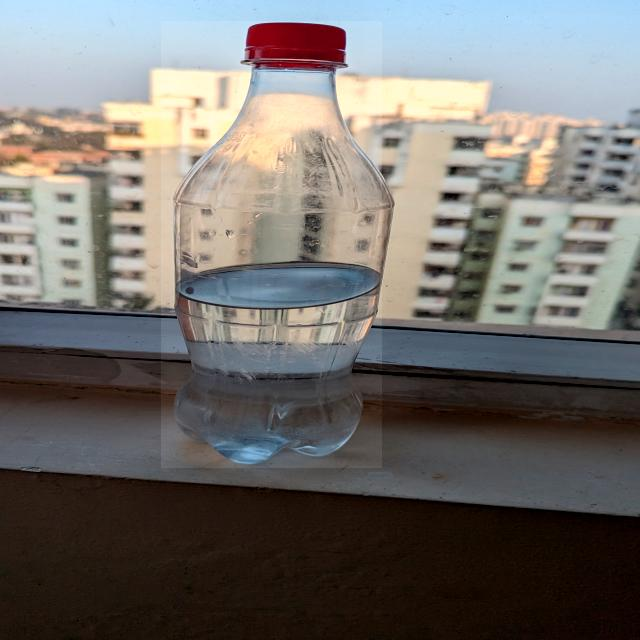half-bottle: (161, 21, 382, 468)
